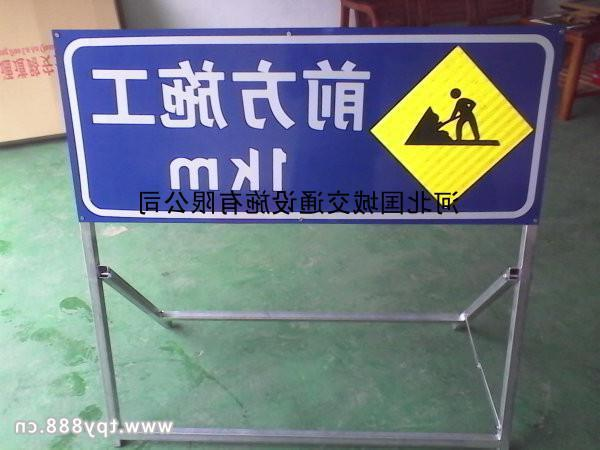sign: (56, 28, 556, 233)
